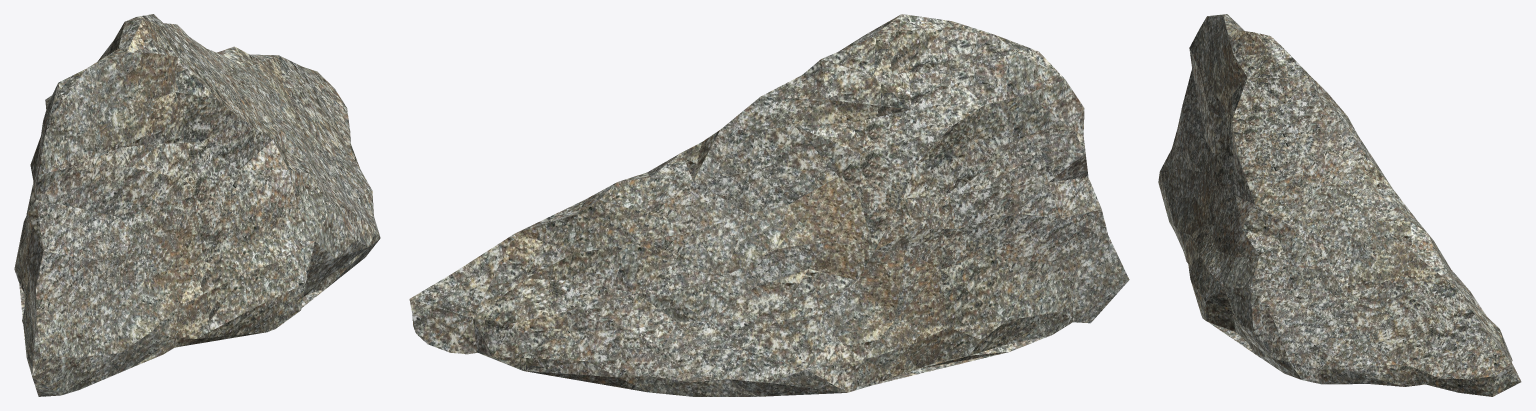
File: Intresto_rock011_252vert_500face_scale_1m_raw_tex_basalt3_2017_v2.dae
3 views of the same model, side by side, from view 1: azimuth 30°, elevation 25°; view 2: azimuth 150°, elevation 25°; view 3: azimuth 270°, elevation 25° (orthographic). The views are drawn at different scales.
Visible parts, largest first — view 1: Component; view 2: Component; view 3: Component.
Boxes of the visible parts, bbox=[...] form: Component: bbox=[14, 14, 380, 396]; Component: bbox=[409, 14, 1129, 396]; Component: bbox=[1158, 14, 1521, 396].
Size of the model in its own units: 36.04 by 27.68 by 20.99.
1 material, 1 textured.
